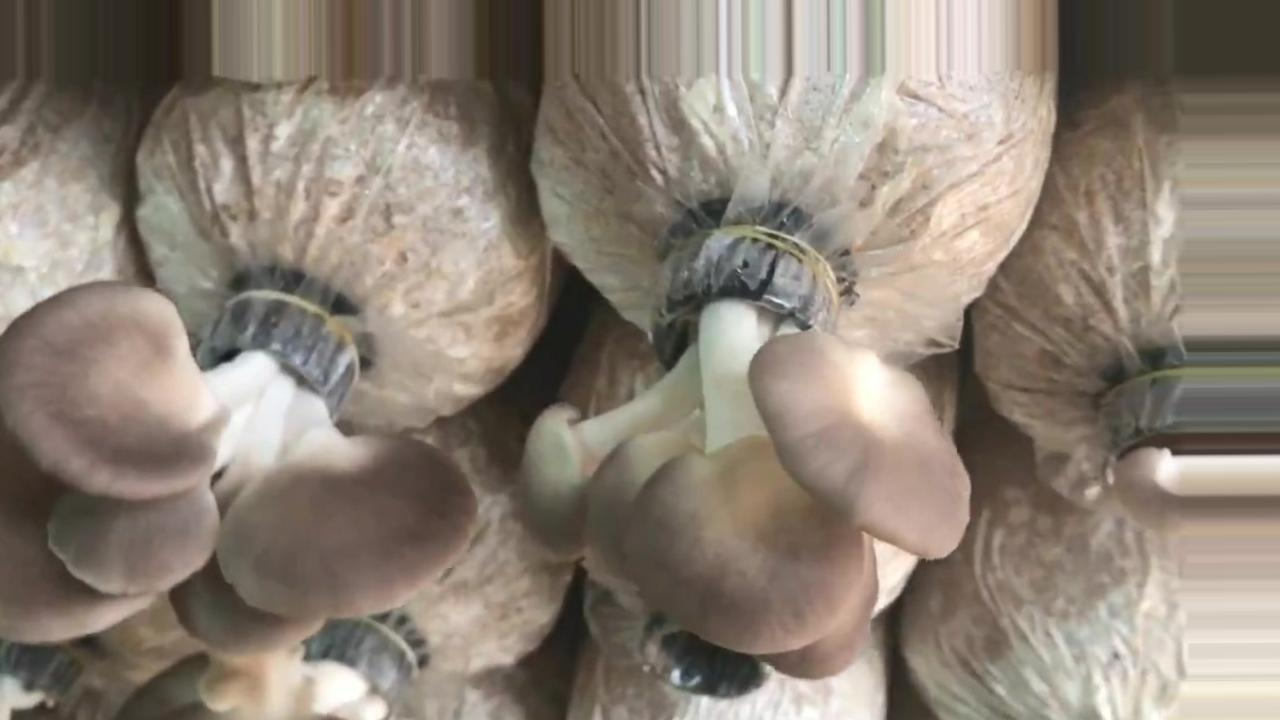nam: (514, 231, 970, 677), (1, 283, 474, 647), (1110, 352, 1279, 536), (204, 627, 410, 720)
